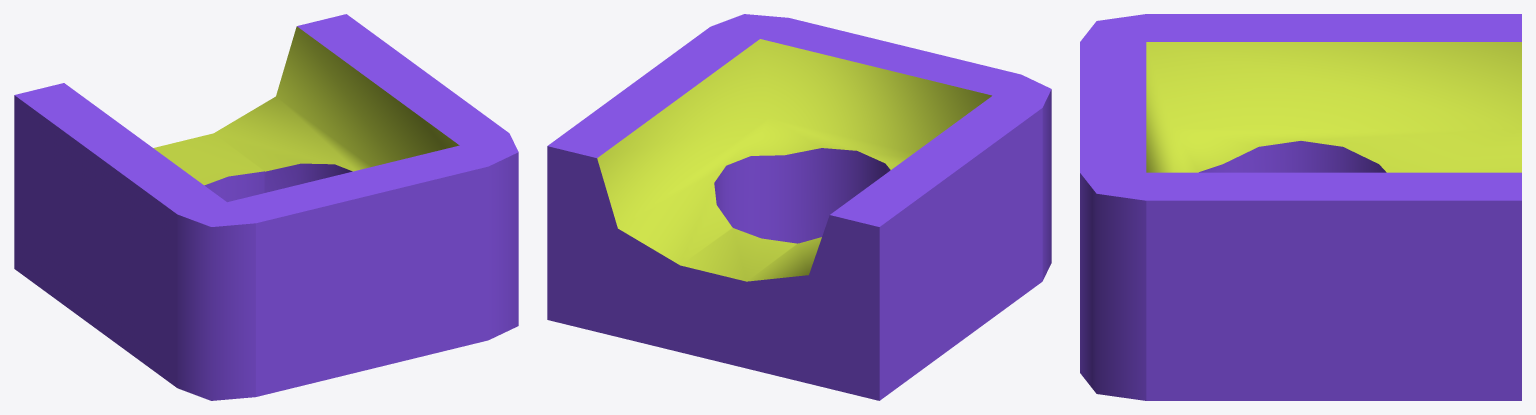
File: end_hole_rounded.fbx
3 renders of one model, left to right at view 1: azimuth 30°, elevation 25°; view 2: azimuth 150°, elevation 25°; view 3: azimuth 270°, elevation 25°, orthographic. The views are drawn at different scales.
Visible parts, largest first — view 1: end_hole_rounded; view 2: end_hole_rounded; view 3: end_hole_rounded.
Part boxes in pixels (box(x1,y1,x2,y2)): end_hole_rounded: box(14, 14, 518, 400); end_hole_rounded: box(547, 14, 1051, 400); end_hole_rounded: box(1080, 14, 1521, 400).
Bounding box in the file's own units: 10 × 5 × 10.
